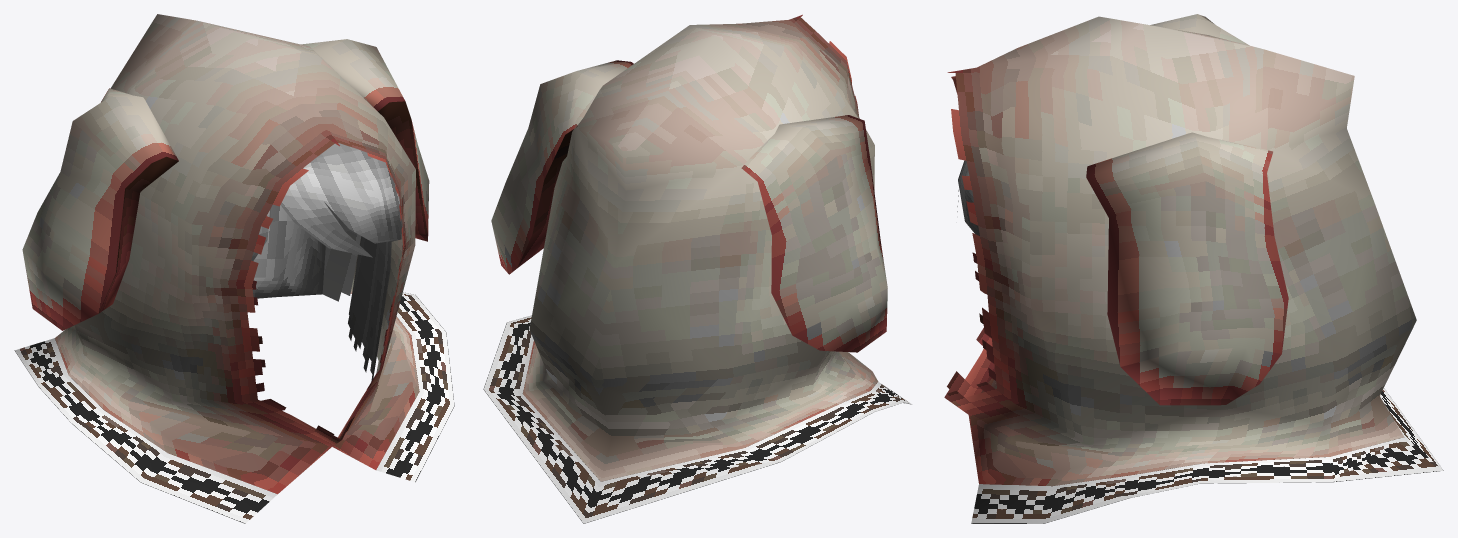
The model's file is f_hair141.glb.
3 views of the same model, side by side, from view 1: azimuth 30°, elevation 25°; view 2: azimuth 150°, elevation 25°; view 3: azimuth 270°, elevation 25° (orthographic). The views are drawn at different scales.
Size of the model in its own units: 30.25 by 30.72 by 30.91.
1 material, 1 textured.
